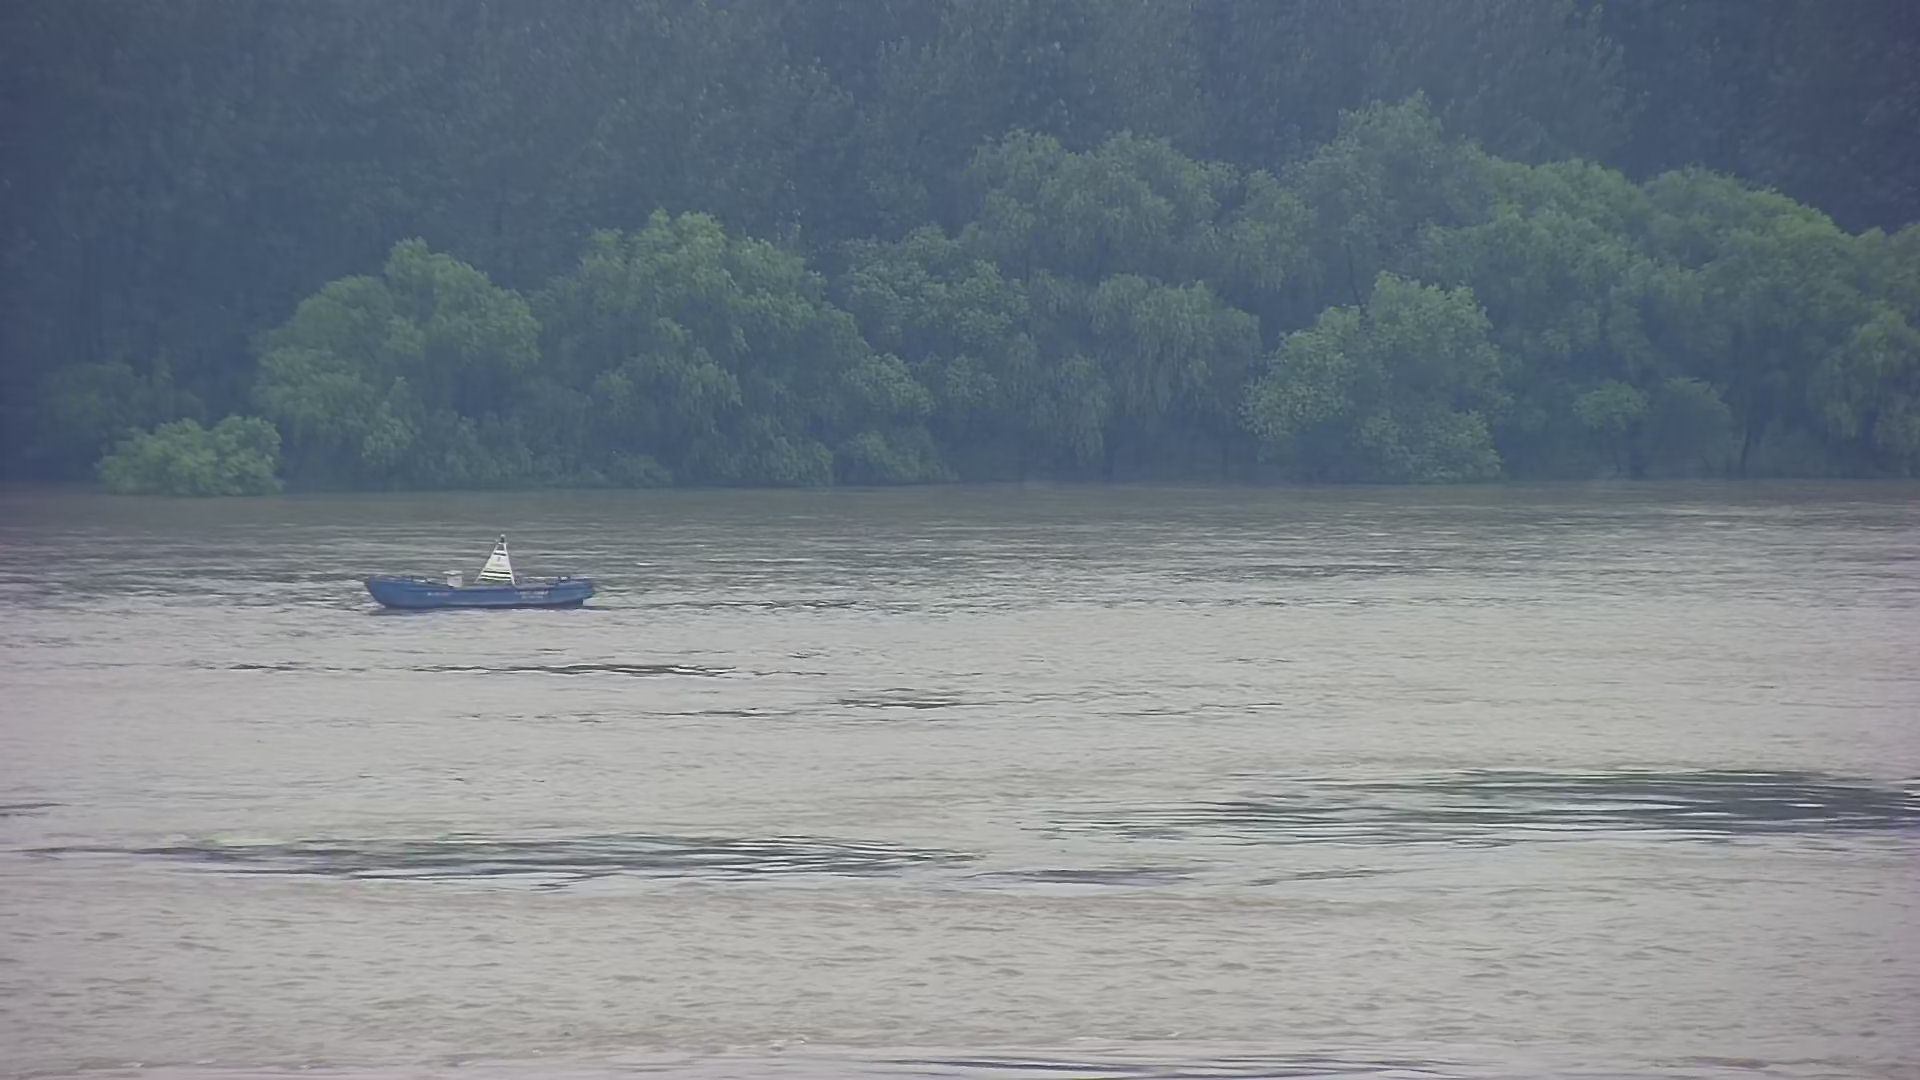boat: (332, 504, 622, 625)
